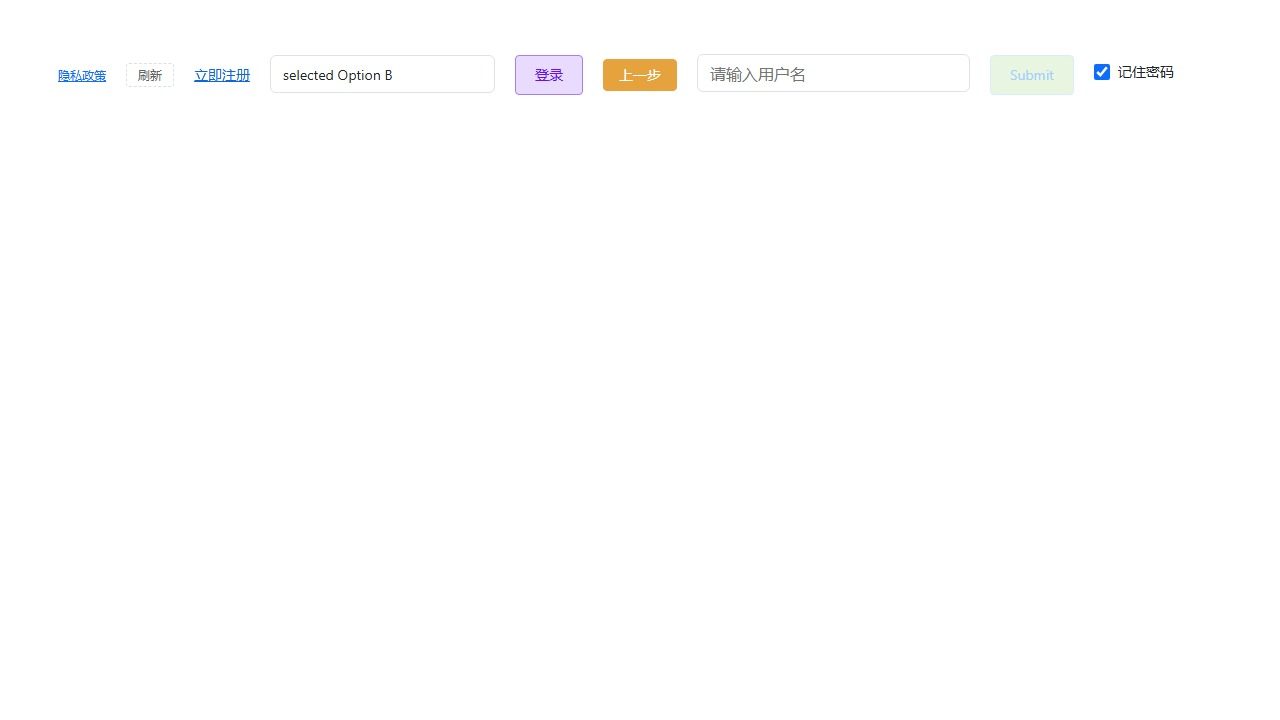button: (990, 54, 1074, 94), (515, 54, 583, 94), (603, 58, 677, 90), (126, 62, 174, 86)
checkbox: (1094, 64, 1110, 80)
icon: (1118, 62, 1174, 81)
input: (697, 54, 970, 92)
link: (194, 65, 250, 84), (58, 66, 106, 82)
radio: (1094, 62, 1174, 81)
select: (270, 55, 495, 93)
